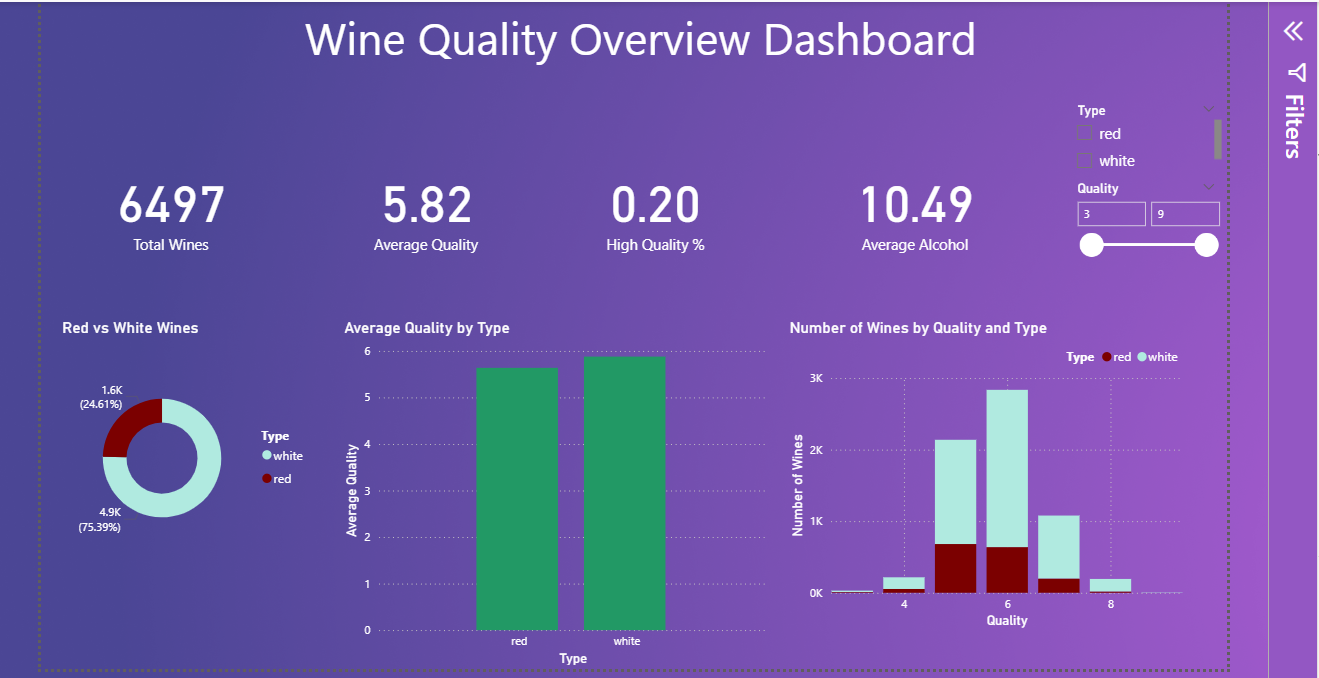

The page's visual inventory and layout, read from the dashboard file:
{"tool":"powerbi","page":{"name":"Overview","canvas":[1280,720],"ordinal":0},"visuals":[{"type":"card","fields":{"Values":["Wine.Total Wines"]},"box":[0,103.9,280,237.2],"z":0},{"type":"card","fields":{"Values":["Wine.Average Quality"]},"box":[275.1,103.9,280,237.2],"z":1000},{"type":"card","fields":{"Values":["Wine.High Quality %"]},"box":[523.4,103.9,280,237.2],"z":2000},{"type":"slicer","fields":{"Values":["Wine.type"]},"box":[1106.7,103.9,173.6,83.2],"z":3000},{"type":"donutChart","title":"Red vs White Wines","fields":{"Category":["Wine.type"],"Y":["CountNonNull(Wine.type)"]},"box":[18.3,341.2,280,280],"z":4000},{"type":"clusteredColumnChart","fields":{"Y":["Wine.Average Quality"],"Category":["Wine.type","Wine.quality"]},"box":[321.6,341.2,465.9,379.1],"z":5000},{"type":"columnChart","title":"Number of Wines by Quality and Type","fields":{"Category":["Wine.quality"],"Y":["CountNonNull(Wine.quality)"],"Series":["Wine.type"]},"box":[803.4,341.2,434.1,338.7],"z":6000},{"type":"slicer","fields":{"Values":["Wine.quality"]},"box":[1106.7,187.1,173.6,154.1],"z":7000},{"type":"card","fields":{"Values":["Wine.Average Alcohol"]},"box":[803.4,103.9,280,237.2],"z":8000},{"type":"textbox","box":[0,0,1280.3,103.9],"z":9000}]}

Visuals, with their boxes on the page's 1280x720 design canvas (x1, y1, x2, y2). These are canvas units, not pixel positions in the 1319x678 screenshot, which may show the page scaled, cropped or inside an application window:
card - Wine.Total Wines: <bbox>0, 104, 280, 341</bbox>
card - Wine.Average Quality: <bbox>275, 104, 555, 341</bbox>
card - Wine.High Quality %: <bbox>523, 104, 803, 341</bbox>
slicer - Wine.type: <bbox>1107, 104, 1280, 187</bbox>
"Red vs White Wines" donutChart: <bbox>18, 341, 298, 621</bbox>
clusteredColumnChart - Wine.Average Quality x Wine.type: <bbox>322, 341, 788, 720</bbox>
"Number of Wines by Quality and Type" columnChart: <bbox>803, 341, 1238, 680</bbox>
slicer - Wine.quality: <bbox>1107, 187, 1280, 341</bbox>
card - Wine.Average Alcohol: <bbox>803, 104, 1083, 341</bbox>
textbox: <bbox>0, 0, 1280, 104</bbox>
